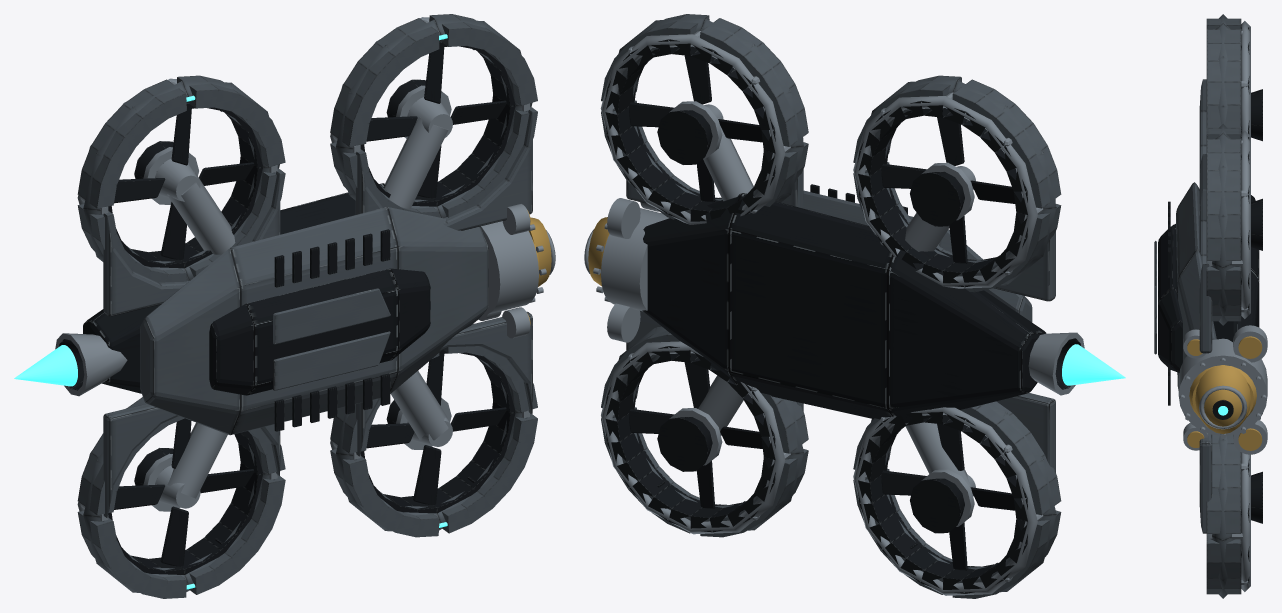
File: drone-high.glb
3 renders of one model, left to right at view 1: azimuth 30°, elevation 25°; view 2: azimuth 150°, elevation 25°; view 3: azimuth 270°, elevation 25°, orthographic. The views are drawn at different scales.
Parts seen in each view (by area): view 1: drone-root / Brushed pale alloy, drone-root / Ceramic graphite, drone-root / Titanium edges, Survey rotor.001 / Ceramic graphite, Survey rotor.002 / Ceramic graphite, Survey rotor / Ceramic graphite, Survey rotor.003 / Ceramic graphite, Rear jet plume / Cyan instrumentation, Survey rotor.001 / Titanium edges, Survey rotor.003 / Titanium edges, Survey rotor / Titanium edges, drone-root / Ore gold / optics; view 2: drone-root / Ceramic graphite, drone-root / Titanium edges, drone-root / Brushed pale alloy, Survey rotor.001 / Ceramic graphite, Survey rotor.003 / Ceramic graphite, Survey rotor / Ceramic graphite, Survey rotor.002 / Ceramic graphite, Rear jet plume / Cyan instrumentation, drone-root / Ore gold / optics; view 3: drone-root / Brushed pale alloy, drone-root / Titanium edges, drone-root / Ceramic graphite, drone-root / Ore gold / optics.
Boxes of the visible parts, bbox=[...] form: drone-root / Brushed pale alloy: bbox=[77, 14, 537, 598]; drone-root / Ceramic graphite: bbox=[59, 42, 515, 574]; drone-root / Titanium edges: bbox=[55, 17, 555, 521]; Survey rotor.001 / Ceramic graphite: bbox=[114, 108, 254, 259]; Survey rotor.002 / Ceramic graphite: bbox=[366, 354, 506, 504]; Survey rotor / Ceramic graphite: bbox=[114, 418, 253, 566]; Survey rotor.003 / Ceramic graphite: bbox=[366, 47, 506, 198]; Rear jet plume / Cyan instrumentation: bbox=[14, 345, 77, 386]; Survey rotor.001 / Titanium edges: bbox=[155, 159, 200, 201]; Survey rotor.003 / Titanium edges: bbox=[407, 97, 452, 137]; Survey rotor / Titanium edges: bbox=[155, 465, 200, 508]; drone-root / Ore gold / optics: bbox=[527, 210, 551, 325]; drone-root / Ceramic graphite: bbox=[605, 39, 1080, 593]; drone-root / Titanium edges: bbox=[584, 31, 1084, 595]; drone-root / Brushed pale alloy: bbox=[601, 14, 1061, 598]; Survey rotor.001 / Ceramic graphite: bbox=[881, 117, 1015, 263]; Survey rotor.003 / Ceramic graphite: bbox=[629, 55, 762, 202]; Survey rotor / Ceramic graphite: bbox=[881, 424, 1015, 570]; Survey rotor.002 / Ceramic graphite: bbox=[629, 362, 762, 508]; Rear jet plume / Cyan instrumentation: bbox=[1062, 344, 1125, 385]; drone-root / Ore gold / optics: bbox=[588, 217, 609, 286]; drone-root / Brushed pale alloy: bbox=[1154, 14, 1241, 598]; drone-root / Titanium edges: bbox=[1178, 21, 1267, 591]; drone-root / Ceramic graphite: bbox=[1158, 27, 1262, 583]; drone-root / Ore gold / optics: bbox=[1187, 336, 1262, 450].
Size of the model in its own units: 1.66 by 1.52 by 0.3412.
5 materials, 2 textured.
